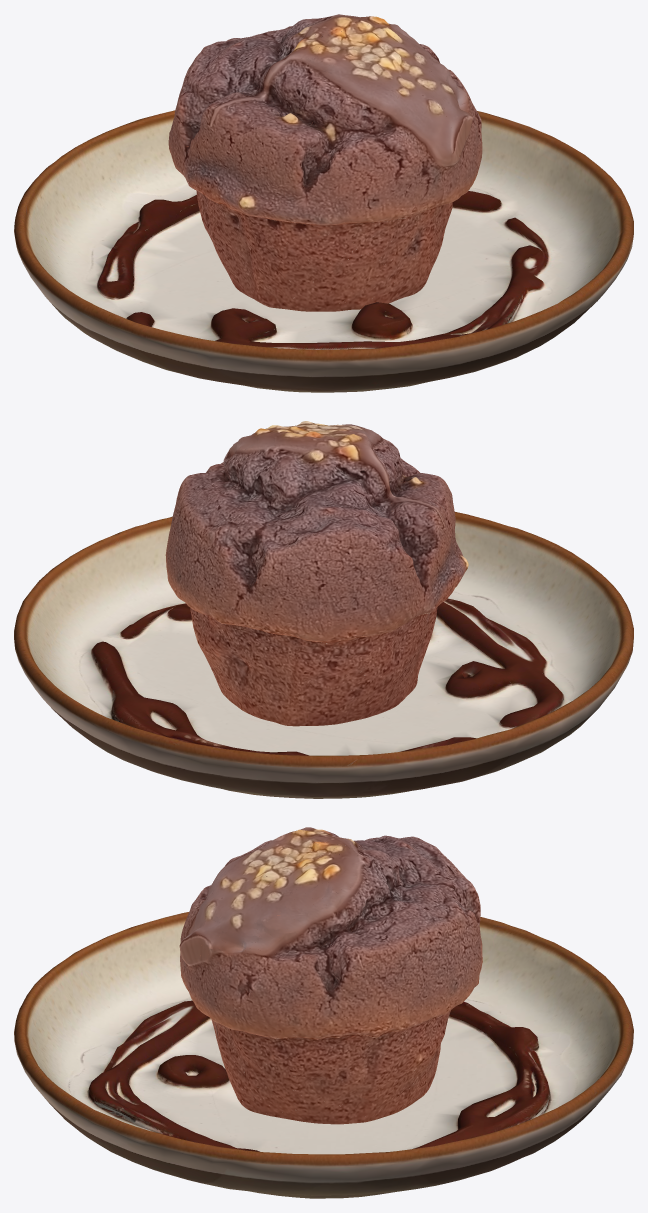
The model's file is MDL_Muffin_AR_2.glb.
3 views of the same model, one above another, from view 1: azimuth 30°, elevation 25°; view 2: azimuth 150°, elevation 25°; view 3: azimuth 270°, elevation 25° (orthographic).
Parts seen in each view (by area): view 1: Mesh1.0; view 2: Mesh1.0; view 3: Mesh1.0.
Boxes of the visible parts, left/top/right/bottom form: Mesh1.0: left=14, top=14, right=633, bottom=392; Mesh1.0: left=14, top=421, right=633, bottom=798; Mesh1.0: left=14, top=827, right=633, bottom=1198.
Size of the model in its own units: 6.63 by 3.26 by 6.63.
Materials: 2 (2 with a texture image).
